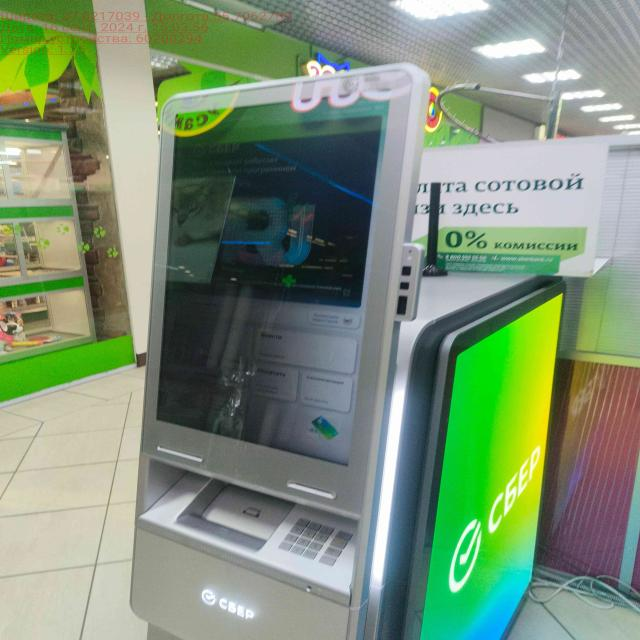bank: (102, 75, 573, 640)
